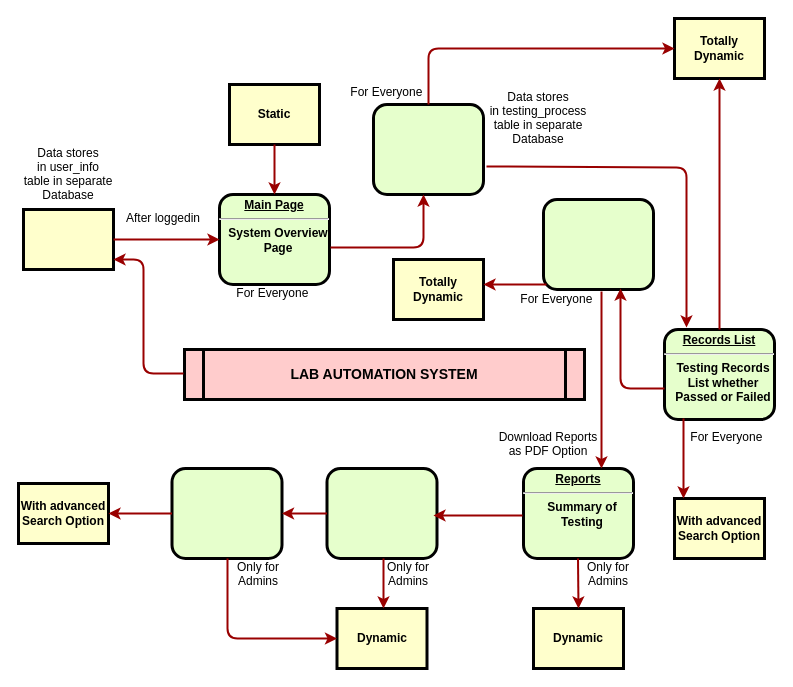
Image size: 793x687. Some labels were removed from this diagram. Each missing label, with the centre of its shape:
Financial Analysis of Products: pixel 381 513
Product Info Testing Product Details: pixel 598 244
Required Authentication: pixel 68 239
Testing Process Automate Testing Process through form: pixel 428 149
User Management Streamline User Accounts: pixel 226 513
